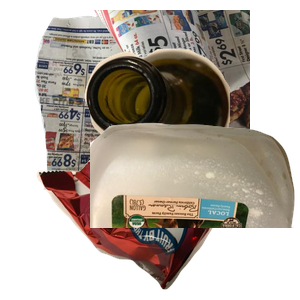glass: (82, 46, 300, 199)
paper: (32, 10, 272, 190)
plastic: (90, 120, 300, 300)
trash: (34, 136, 253, 300)
